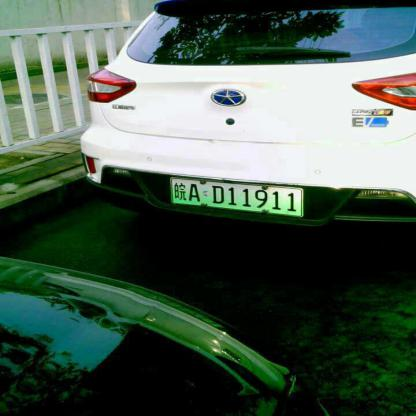lp: (169, 177, 303, 217)
